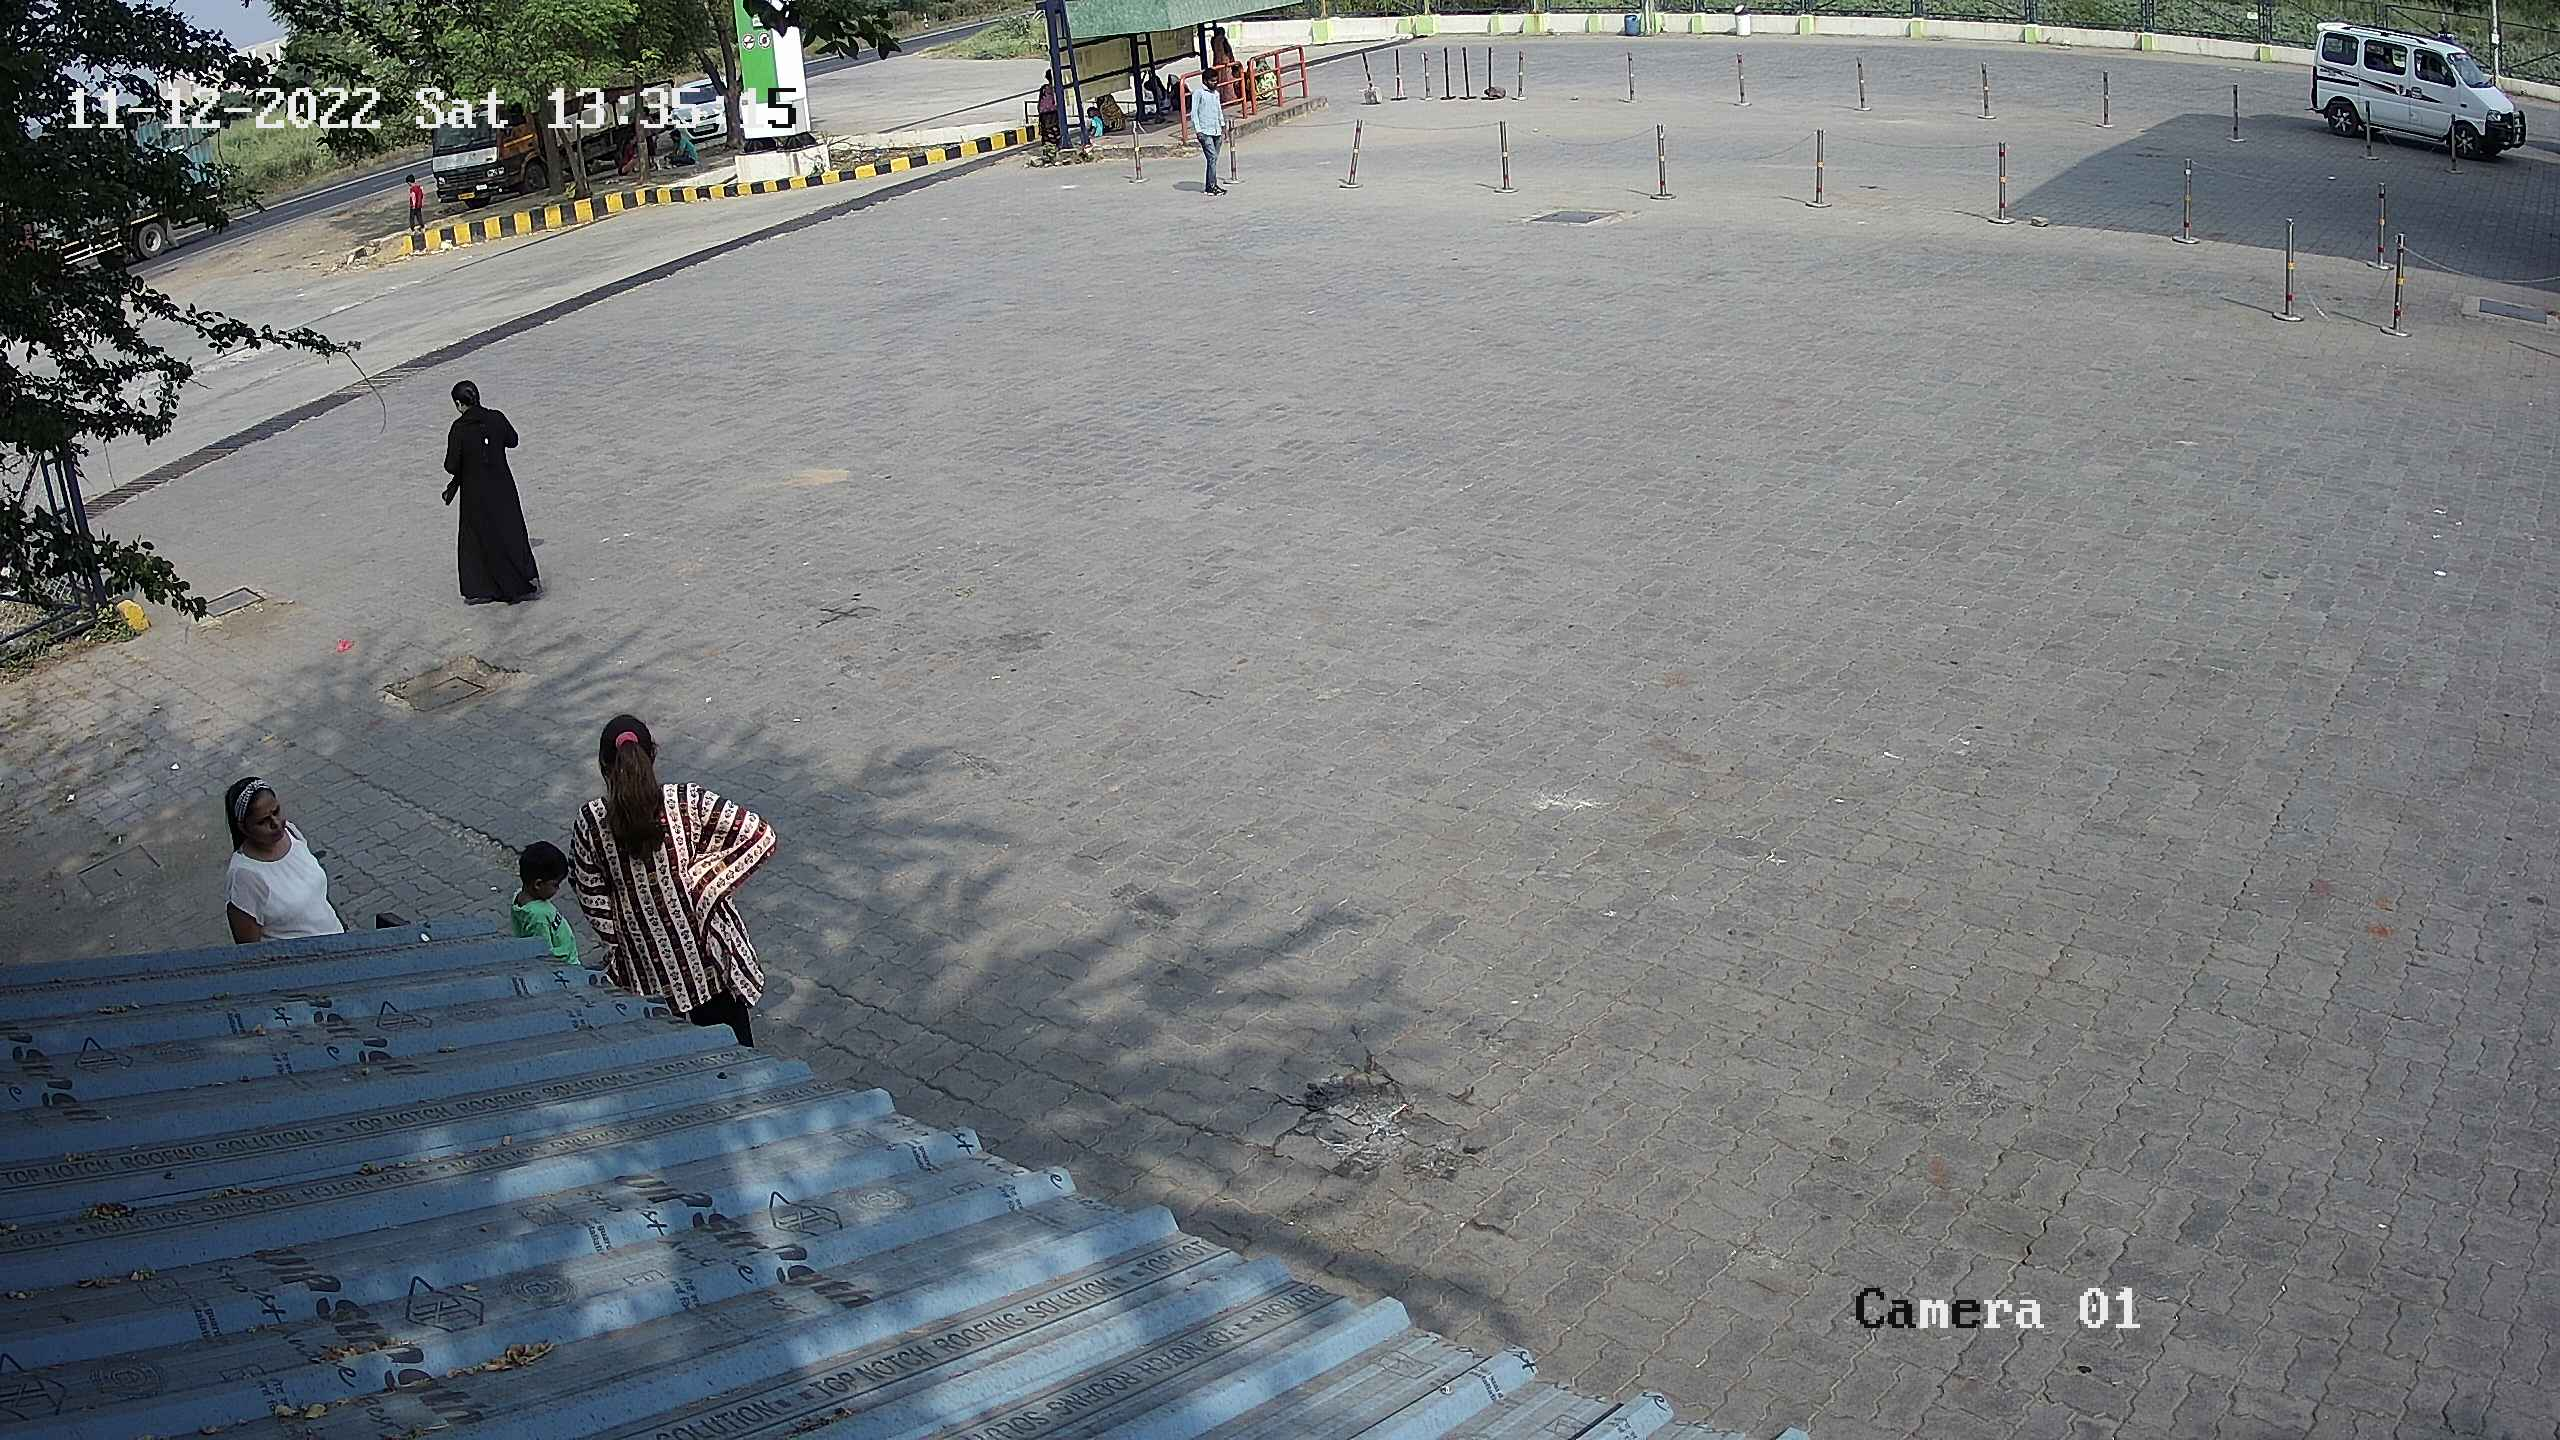Car: (2295, 11, 2535, 167)
HMV: (411, 51, 566, 211)
